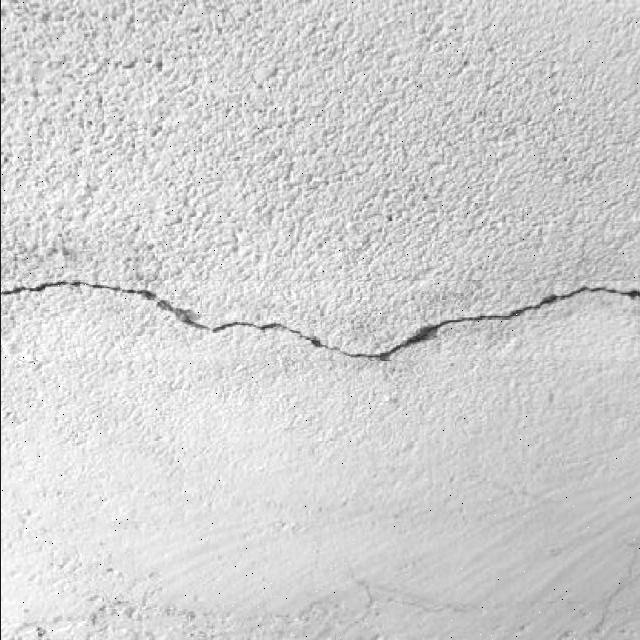crack: (0, 276, 639, 362), (313, 178, 438, 254), (3, 196, 104, 271)
